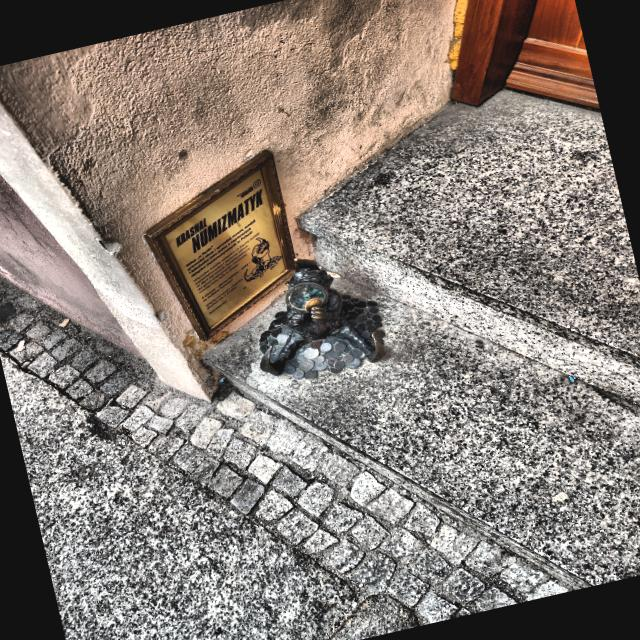Numizmatyk: (258, 259, 386, 379)
